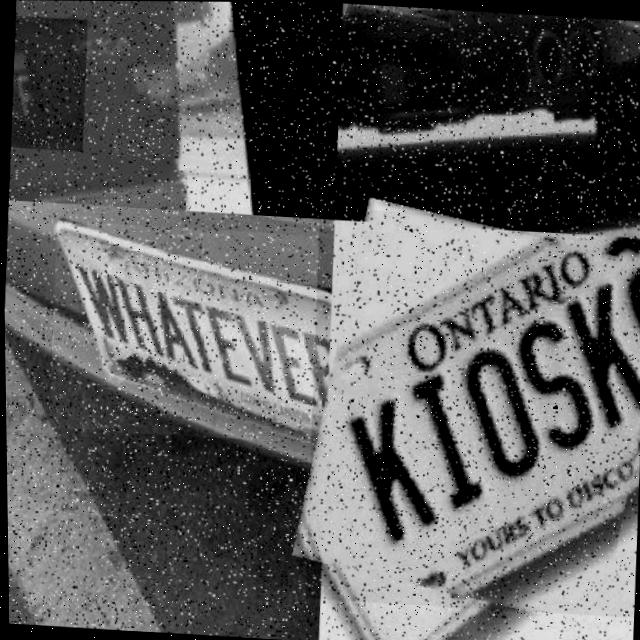LicensePlate: (298, 206, 640, 617), (57, 220, 330, 444), (9, 16, 89, 152), (337, 2, 450, 68)
